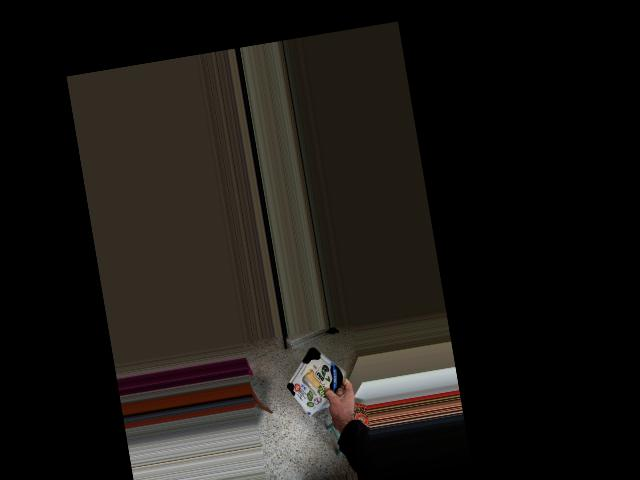cheese: (279, 349, 363, 409)
